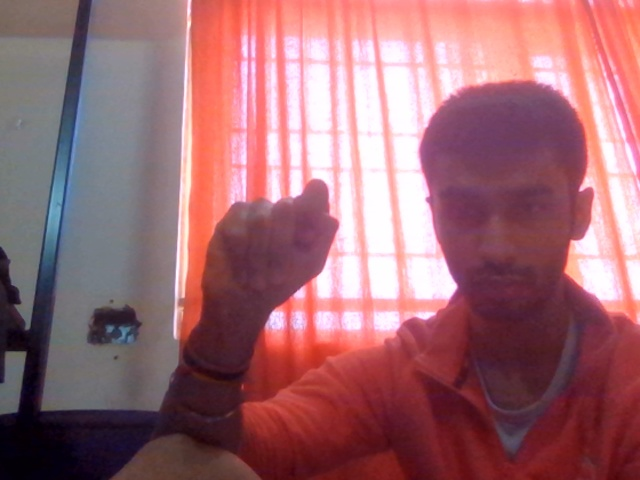T: (168, 166, 398, 354)
